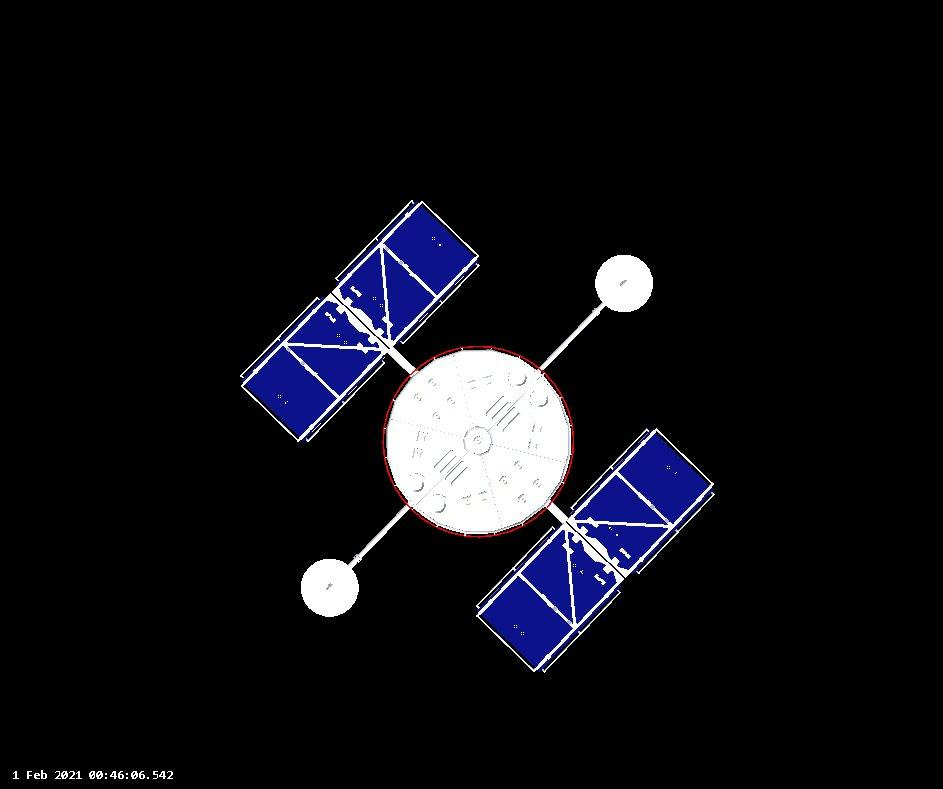antenna: (296, 554, 363, 625), (594, 252, 658, 316)
body: (379, 342, 577, 540)
solar: (473, 425, 720, 677), (235, 198, 484, 445)
